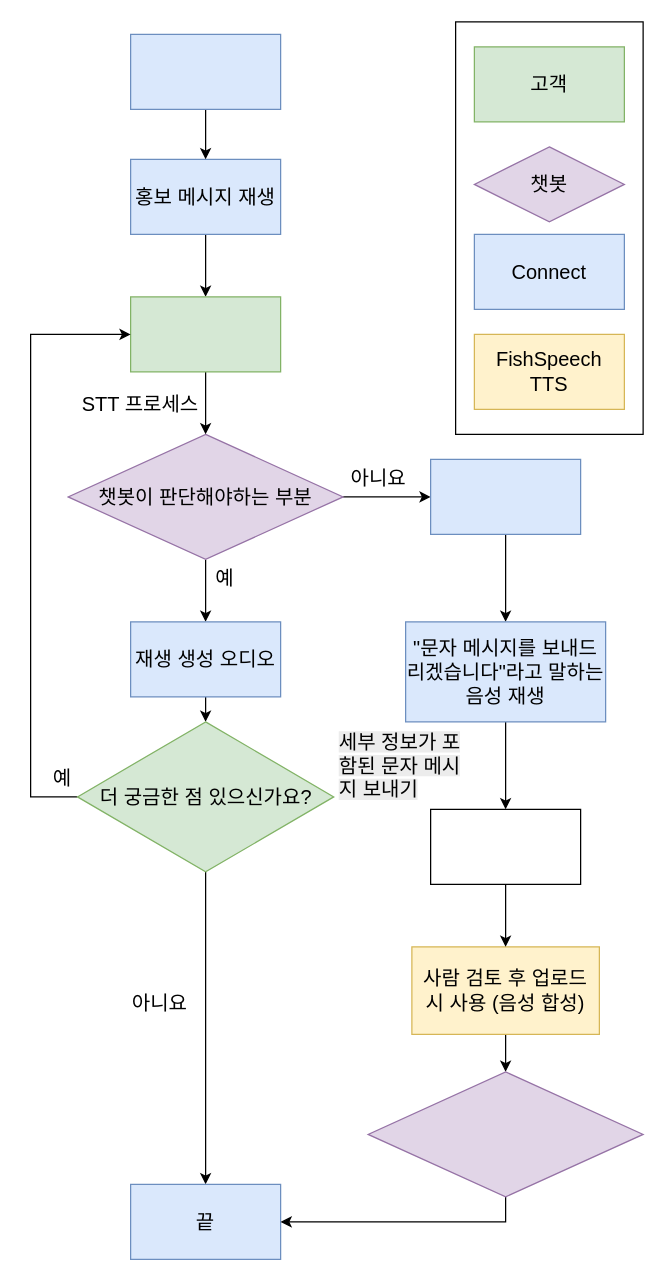
Image size: 665x1281. Some labels were removed from this diagram. The shapes that lost their labels are listed below. From the top down, each one's centre as x and y in pixels, then its label:
pixel 205 71: 프로모션 콜 시작
pixel 205 334: 고객 연설 듣기
pixel 505 496: 정해진 마무리 녹취 파일 재
pixel 505 846: 사람 검토자: STT 질문 확인 & 답변 스크립트 작성
pixel 505 1134: 챗봇은 질문과 적절한 응답을 학습합니다
